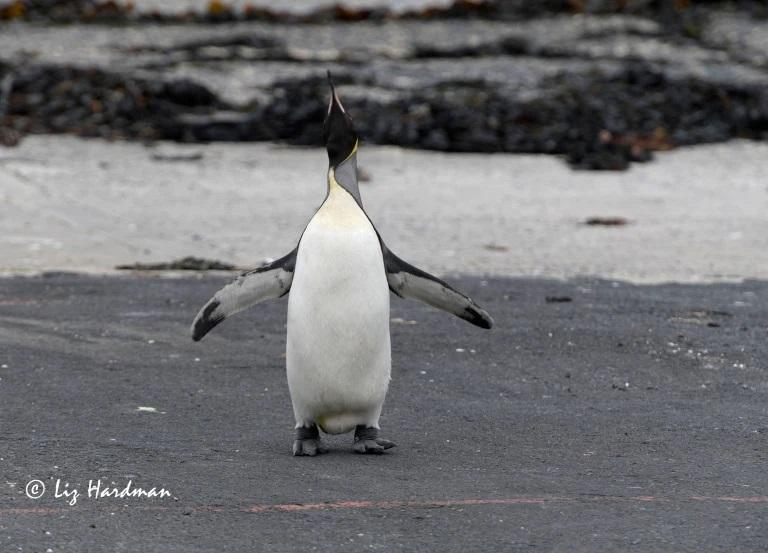king: (247, 68, 431, 468)
